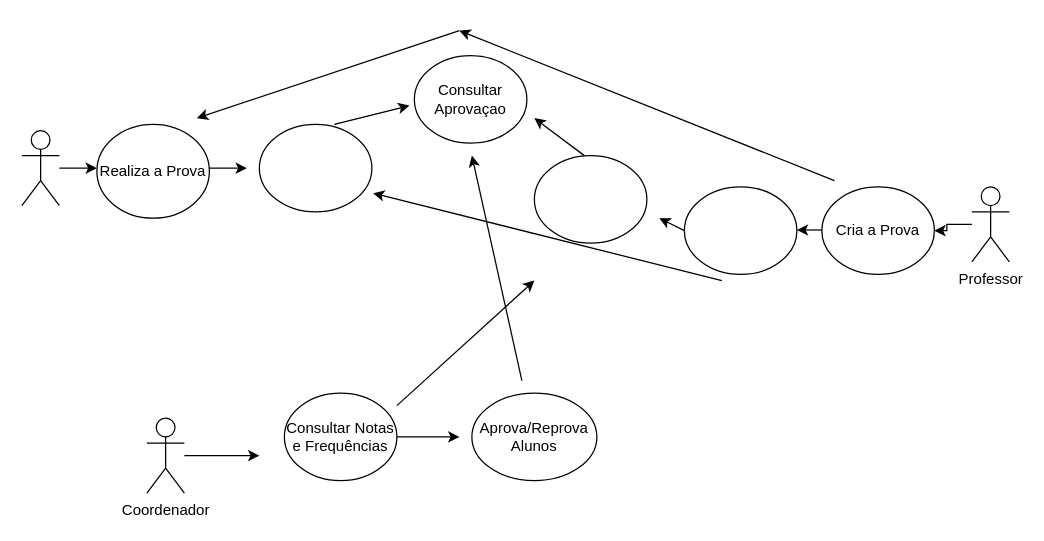
The diagram is 1044 pixels wide and 541 high, and some of its shapes have lost their labels. The shapes that lost their labels are listed below. From the top down, each one's centre as x and y in pixels, then its label:
At [40,167]: "Aluno".
At [315,167]: "Consultar Notas e Frequência".
At [590,198]: "Lançar Notas e Frequência".
At [740,230]: "Correção das Provas".
